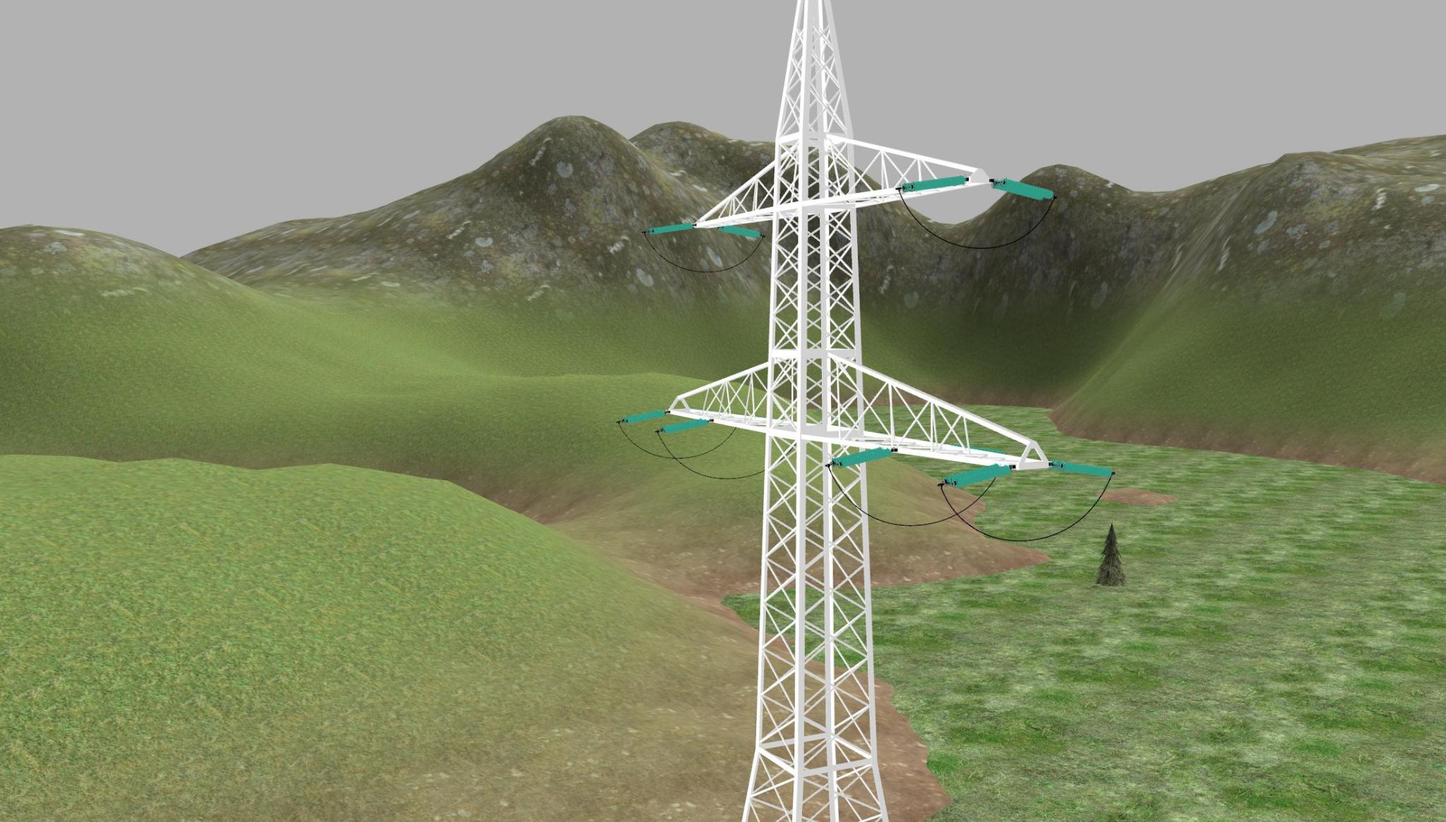tower: (665, 0, 1049, 822)
